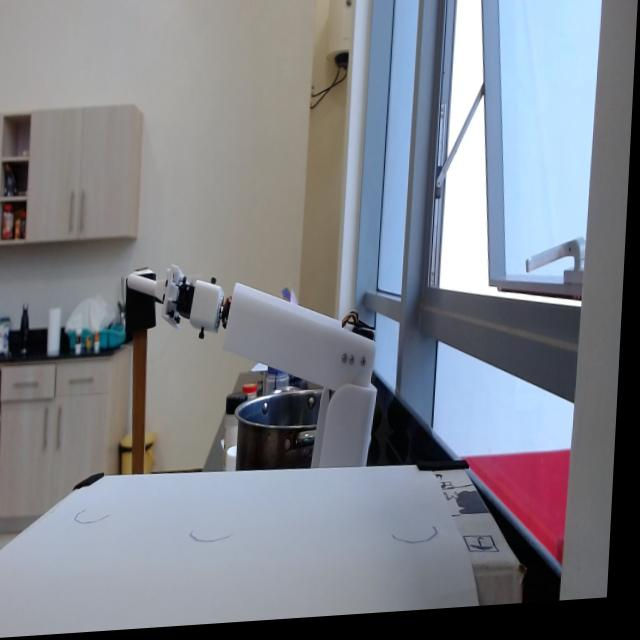cooking_pot: (237, 378, 331, 477)
spatula: (118, 280, 172, 487)
